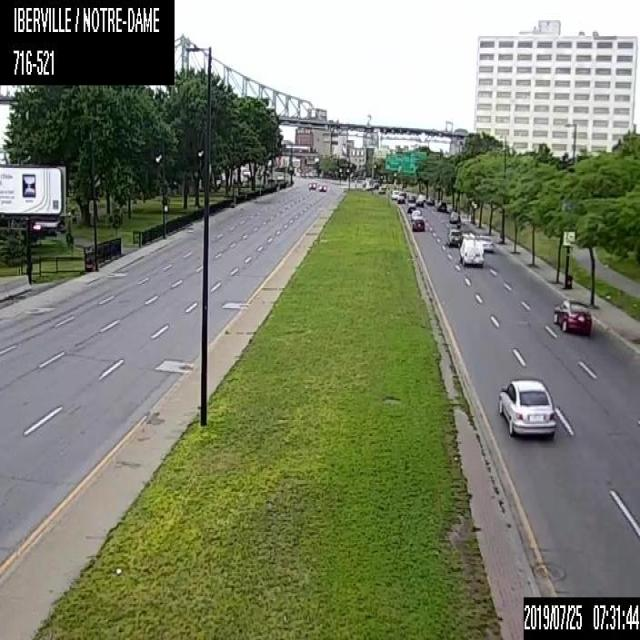vehicle: (496, 376, 556, 439), (553, 297, 592, 331), (458, 232, 482, 266), (447, 222, 462, 245), (480, 234, 493, 251), (411, 214, 424, 230), (449, 210, 459, 222), (436, 200, 446, 210), (406, 202, 415, 212), (307, 180, 316, 189), (318, 182, 327, 191), (411, 208, 421, 216), (425, 196, 435, 204), (415, 197, 423, 206), (406, 192, 414, 200), (396, 195, 404, 202)
